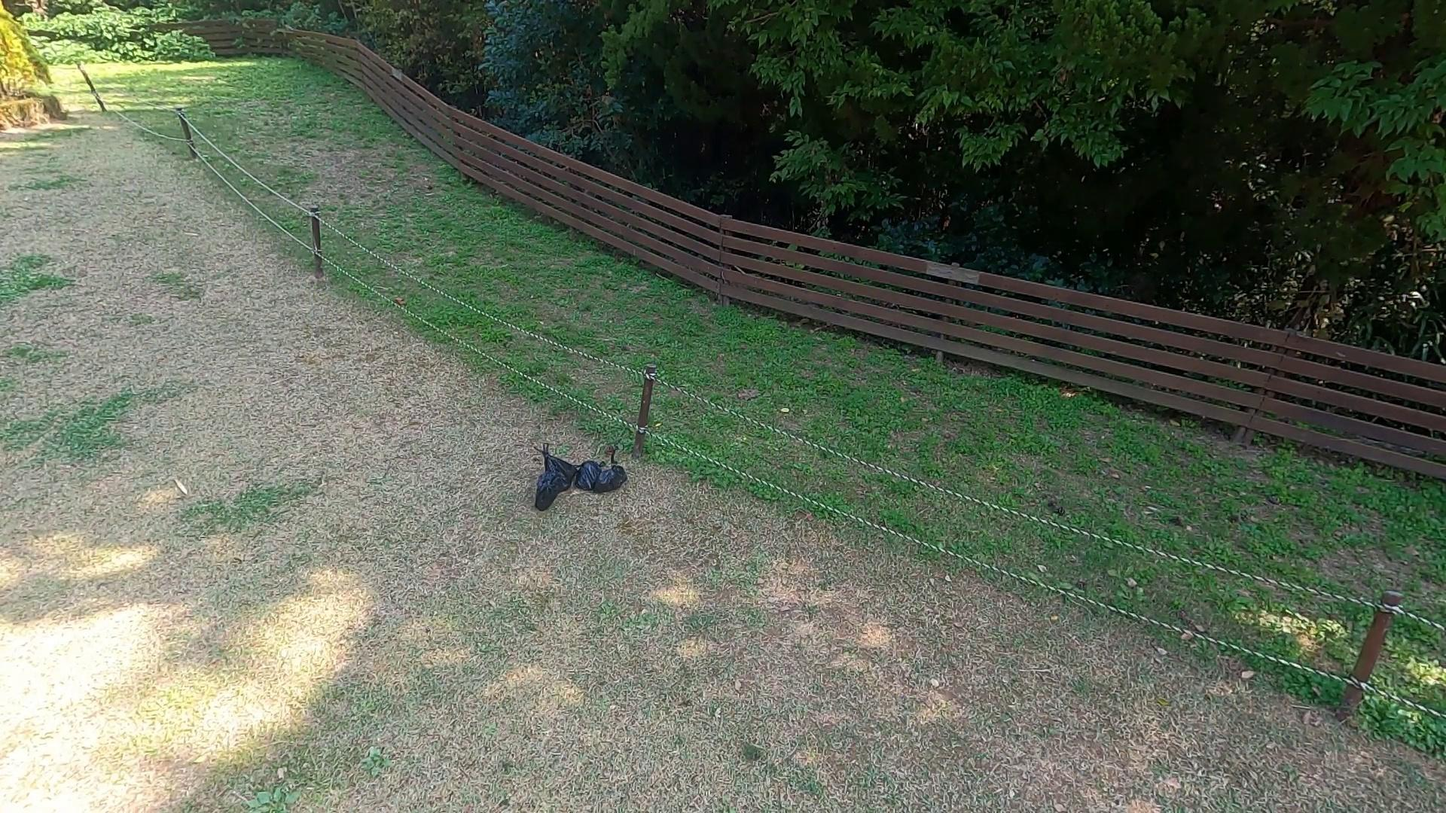trash: (538, 444, 577, 489), (602, 454, 628, 498), (535, 472, 564, 509), (577, 462, 601, 491)
